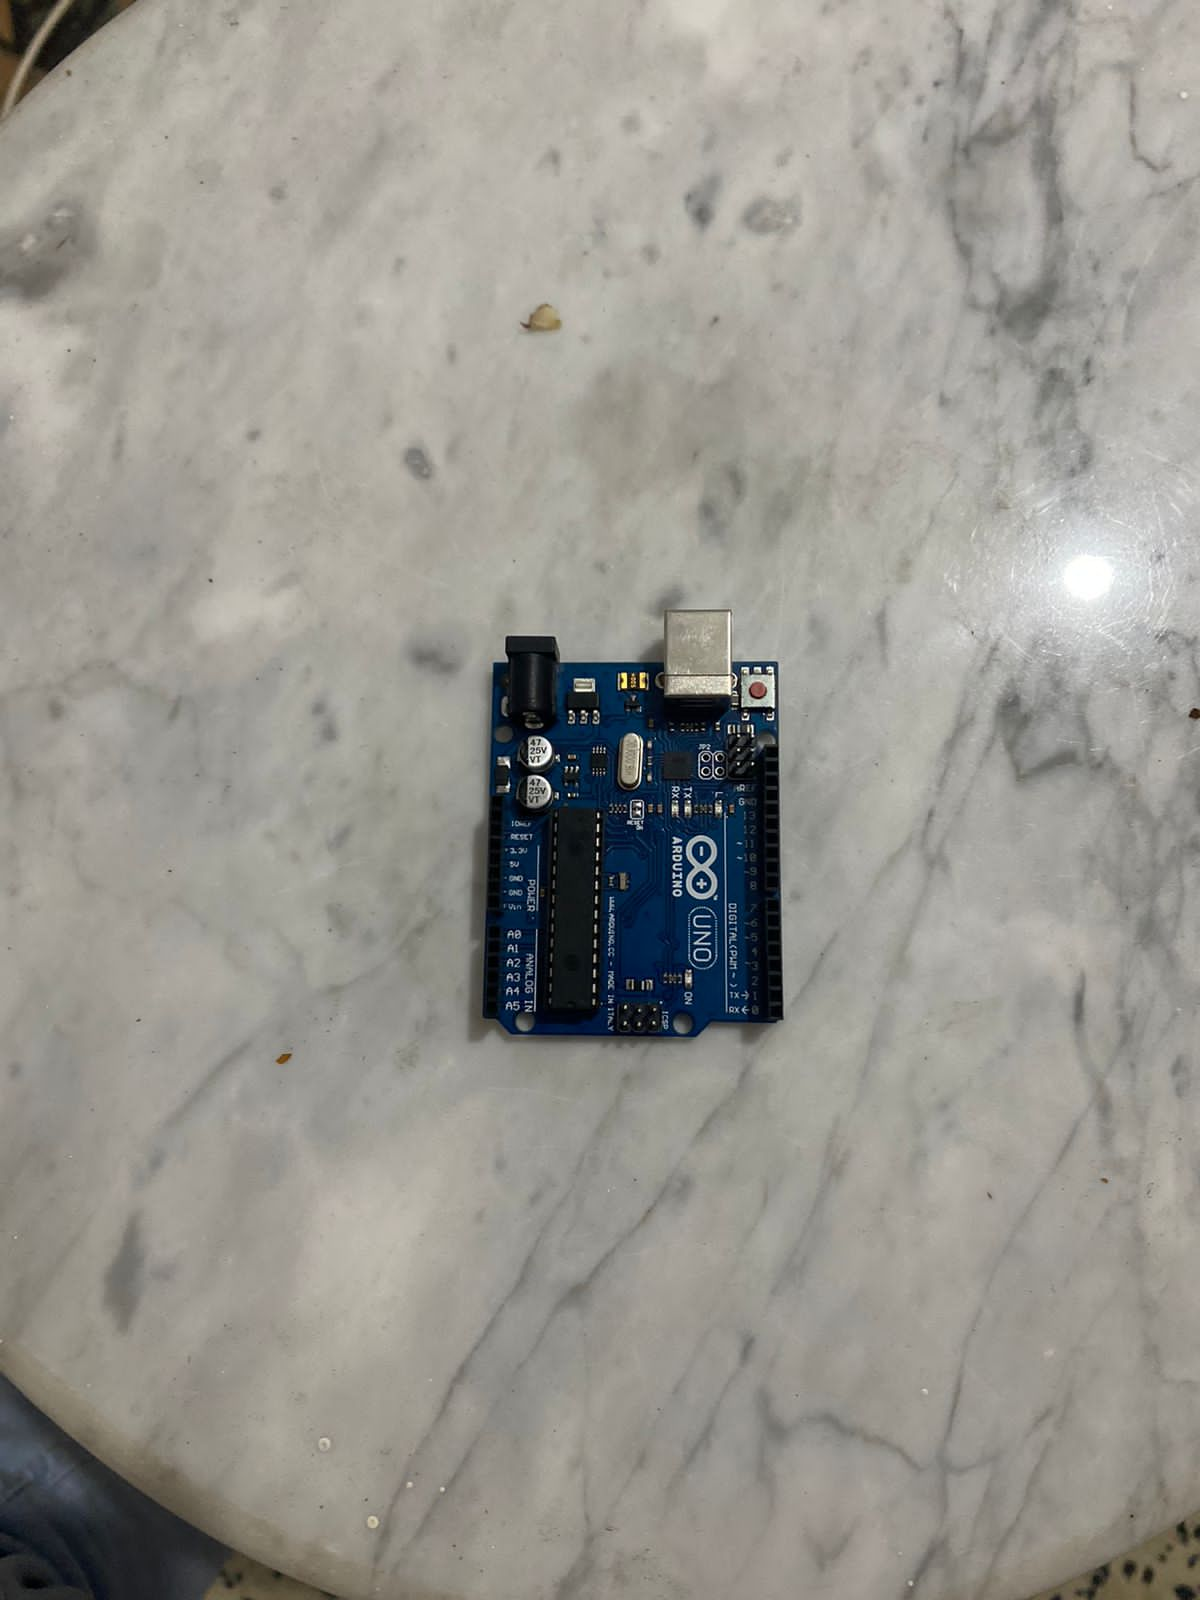arduino-uno: (476, 609, 792, 1039)
